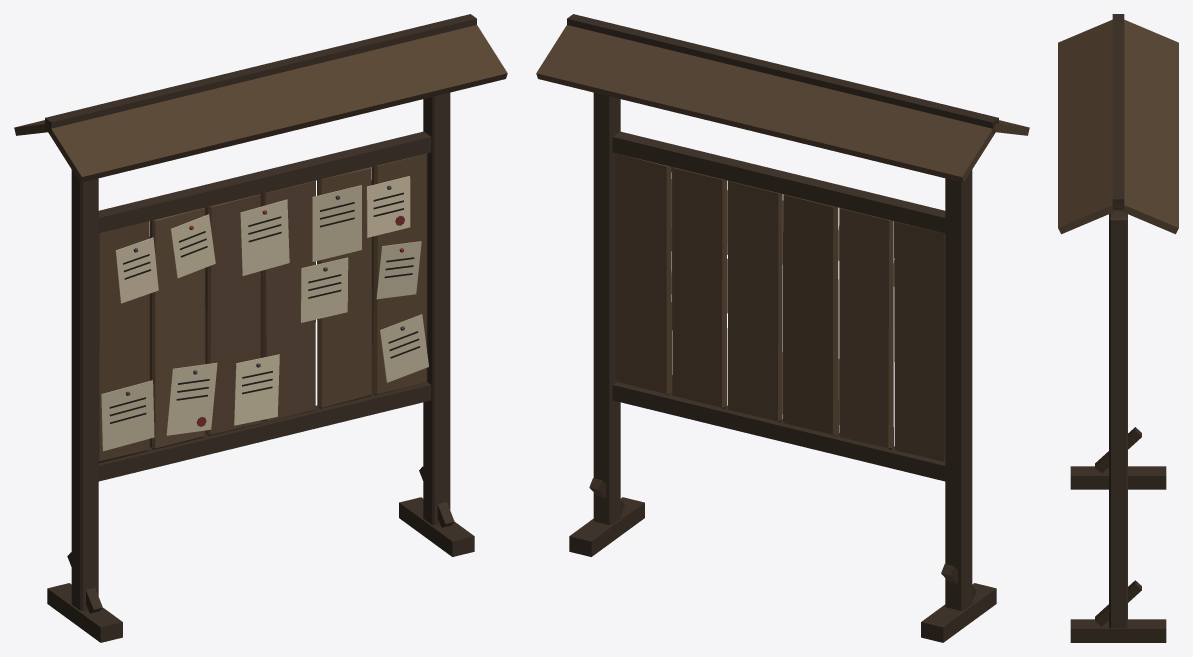
File: notice_board.glb
3 views of the same model, side by side, from view 1: azimuth 30°, elevation 25°; view 2: azimuth 150°, elevation 25°; view 3: azimuth 270°, elevation 25° (orthographic). The views are drawn at different scales.
Visible parts, largest first — view 1: notice_board; view 2: notice_board; view 3: notice_board.
Part boxes in pixels (left/top/right/bottom): notice_board: left=14, top=14, right=507, bottom=642; notice_board: left=536, top=14, right=1029, bottom=642; notice_board: left=1058, top=14, right=1178, bottom=642.
Size of what is drawn, in the model's own units: 2.3 by 2.63 by 0.6341.
